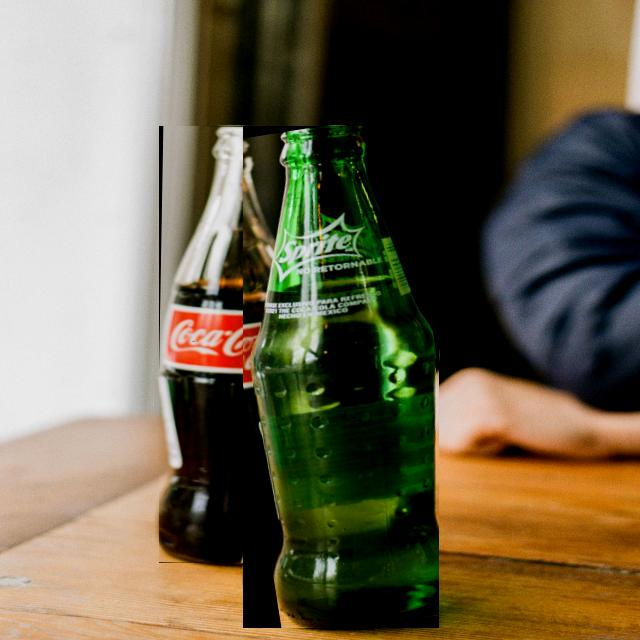Bottle: (244, 126, 438, 628), (160, 126, 294, 563)
